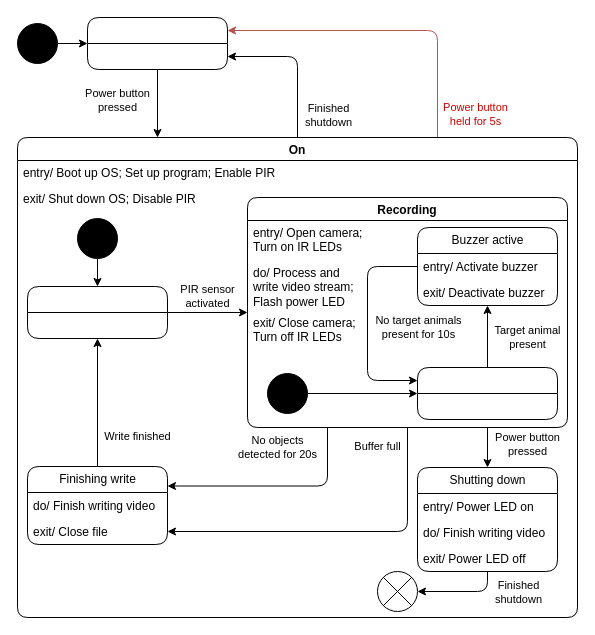
The diagram is 595 pixels wide and 635 high, and some of its shapes have lost their labels. Here are the shapes that lost their labels. From the top down, the centre of each, then its label:
At pixel 157 43: "Standby".
At pixel 97 312: "Idle".
At pixel 487 393: "Buzzer inactive".
